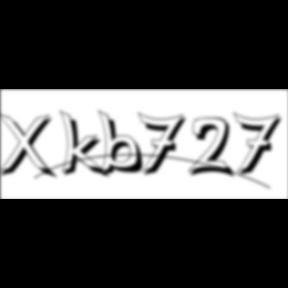2: (189, 117, 239, 181)
7: (233, 111, 288, 179), (138, 111, 192, 179)
X: (1, 112, 60, 182)
b: (98, 109, 150, 179)
k: (60, 108, 112, 181)
